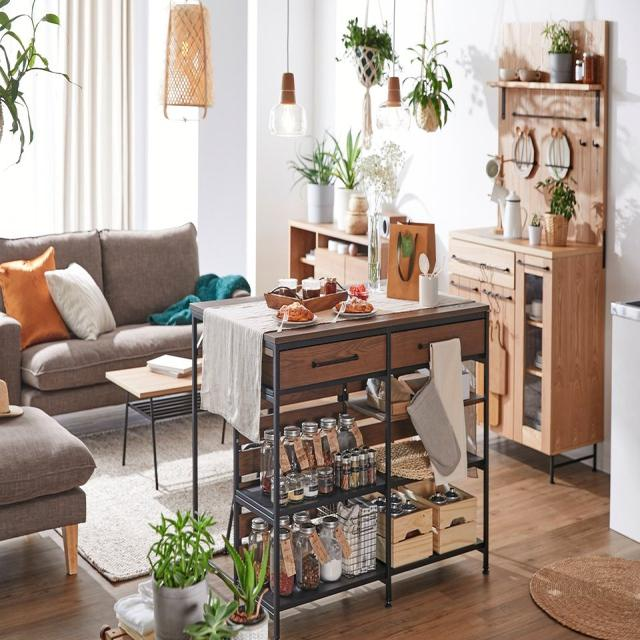vintage desk: (108, 359, 200, 490)
vintage shelf: (445, 71, 606, 493)
vintage sofa: (0, 207, 201, 556)
